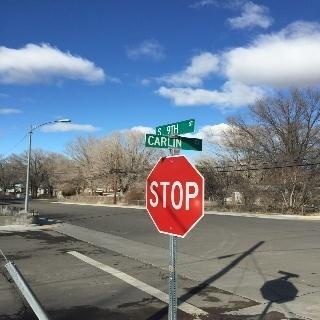sign_stop: (147, 155, 205, 238)
